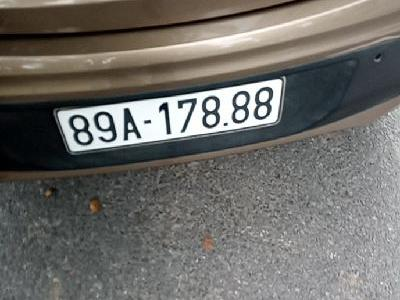lisence: (52, 77, 287, 156)
